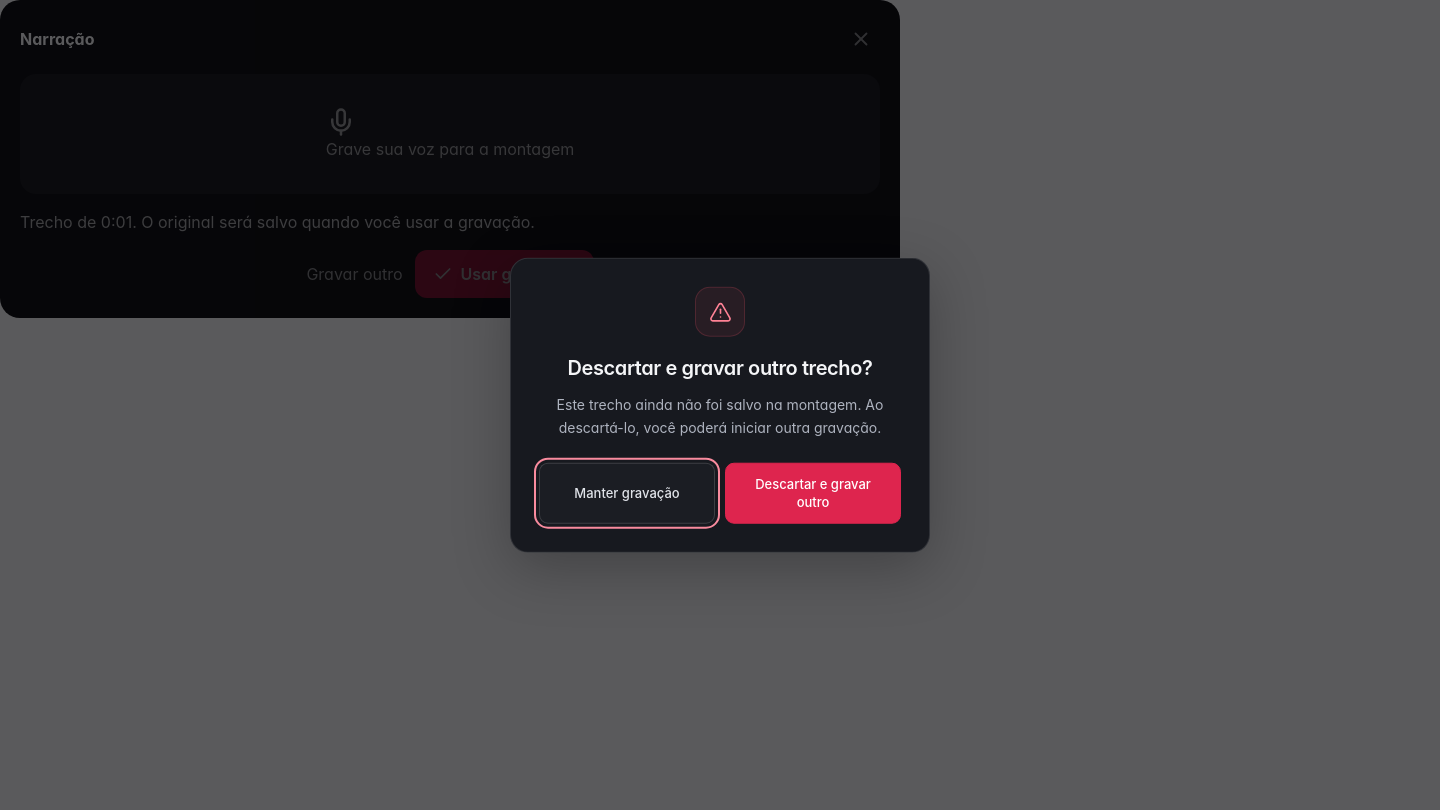
Scenario: StudioRecorder com lifecycle React real › gravar outro só descarta o File depois da aprovação e cancelar permite usar o mesmo original
The image size is (1440, 810).
Earlier steps of the test are not shown.
Later steps or results of the test are not shown.
Expected: the dialog is shown, [510,258,930,552]
Click the button "Manter gravação" at (627, 493), box [539,463,715,523]
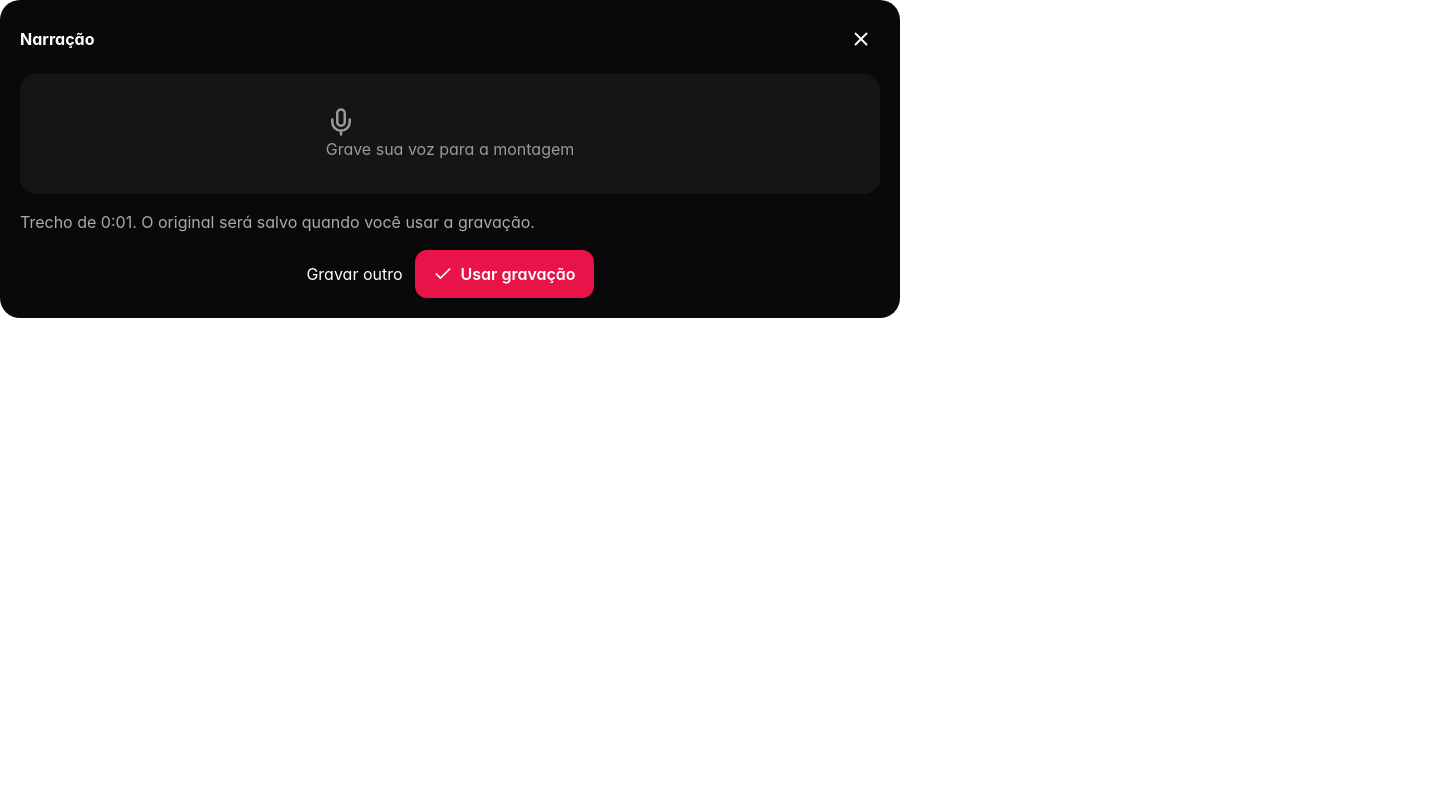
Expected: the button "Gravar outro" is shown
Click the button "Gravar outro" at (354, 274), box [306,262,402,286]
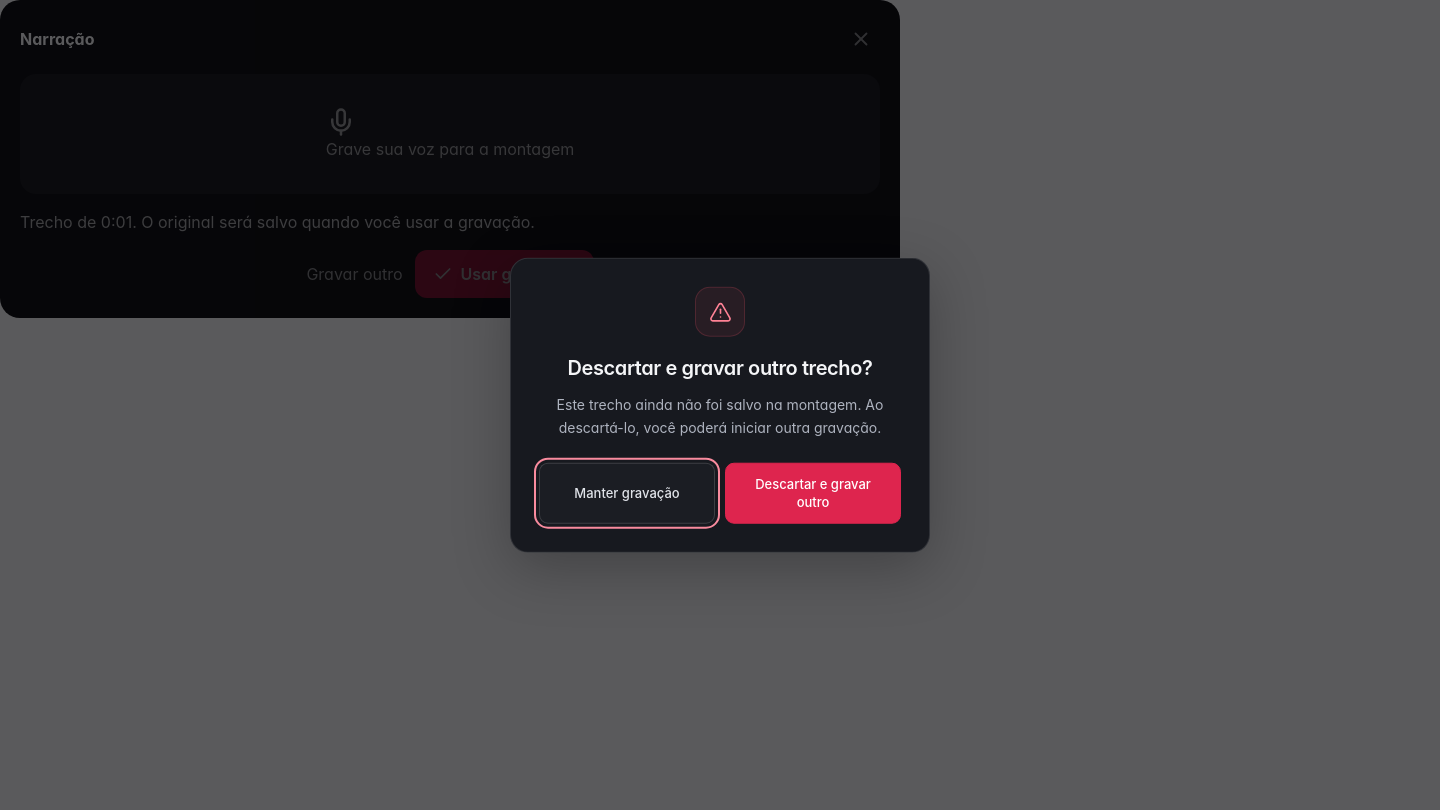
Expected: the dialog is shown, [510,258,930,552]
Expected: the button "Descartar e gravar outro" is shown
Click the button "Descartar e gravar outro" at (813, 493), box [725,463,901,523]
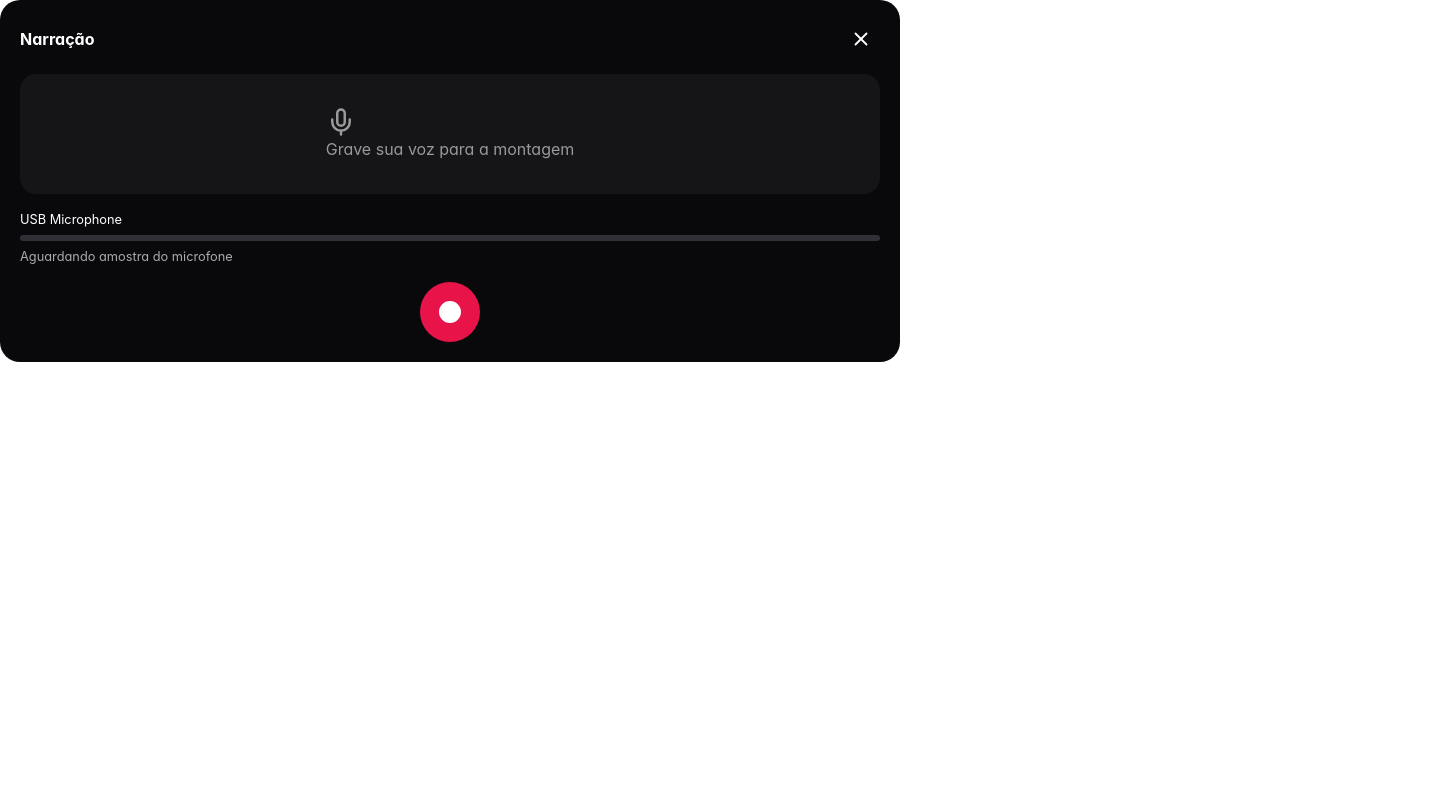
Expected: the button named "Iniciar gravação" is shown
Click the button named "Iniciar gravação" at (450, 312), box [420,282,480,342]
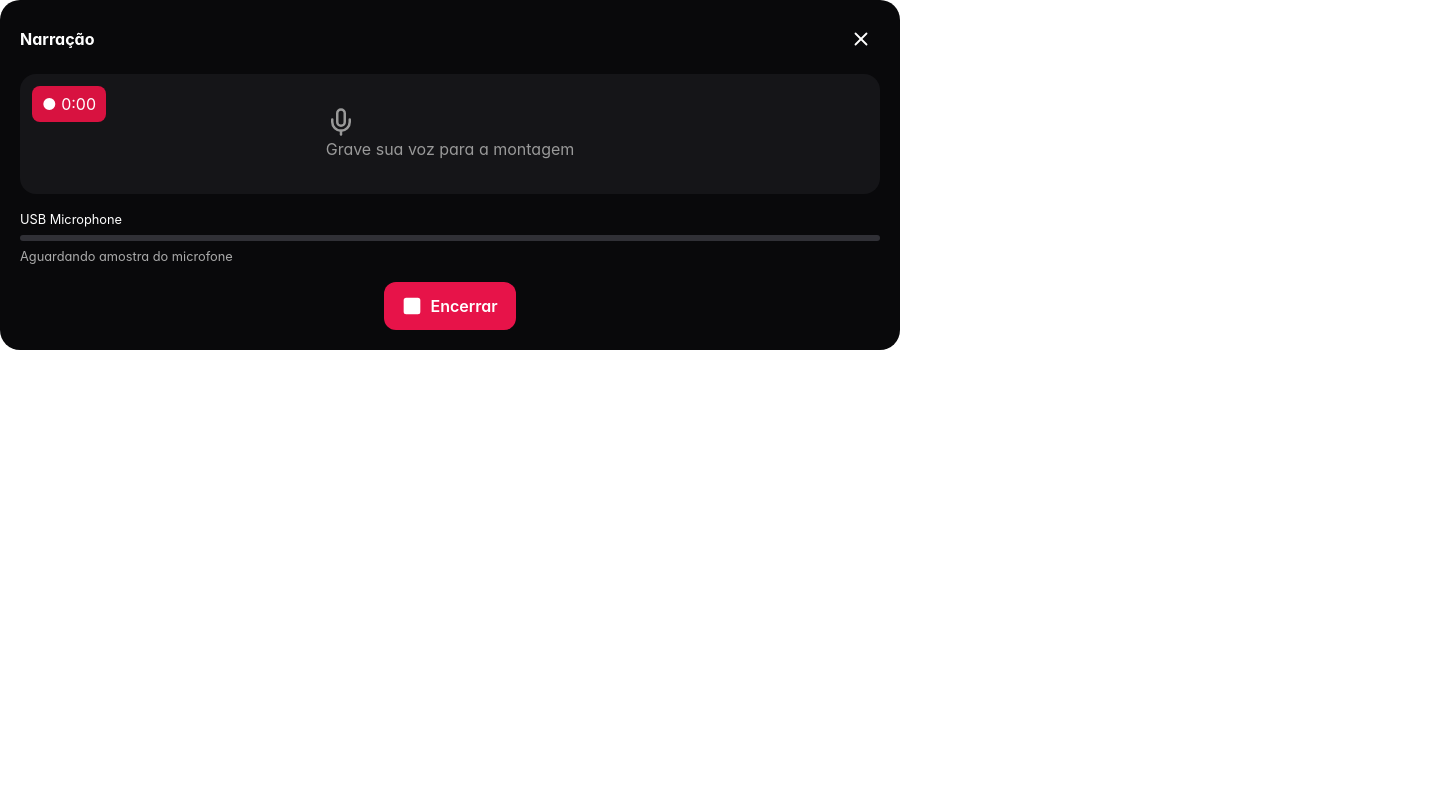
Expected: the button "Encerrar" is shown
Click the button "Encerrar" at (450, 306), box [384,282,516,330]
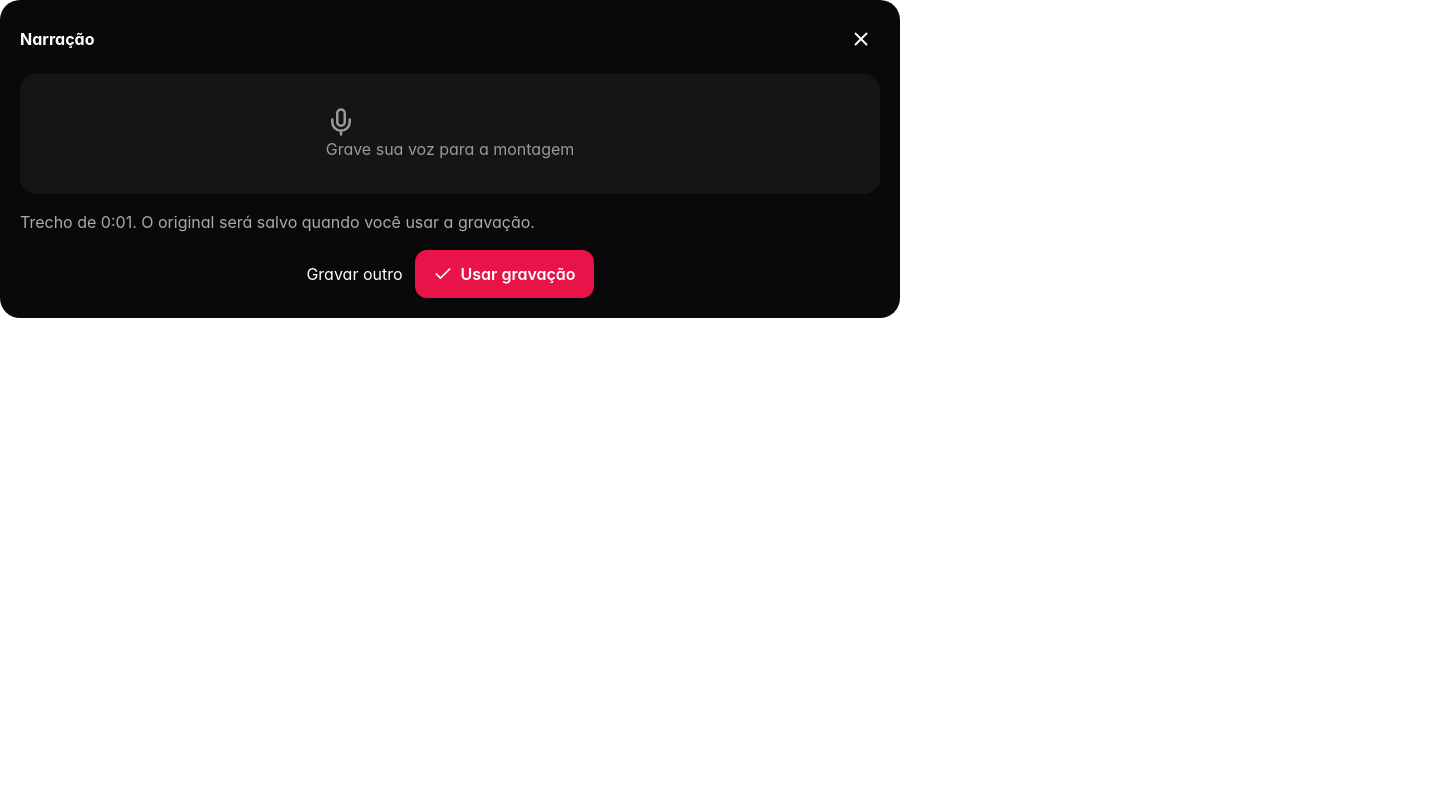
Expected: the button "Usar gravação" is shown, [414,250,594,298]
